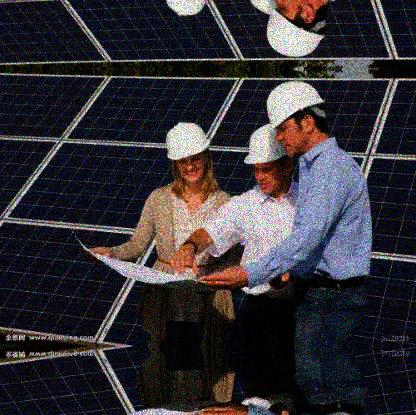helmet: (264, 79, 329, 154), (267, 1, 329, 58), (243, 125, 294, 193), (164, 121, 212, 183)
